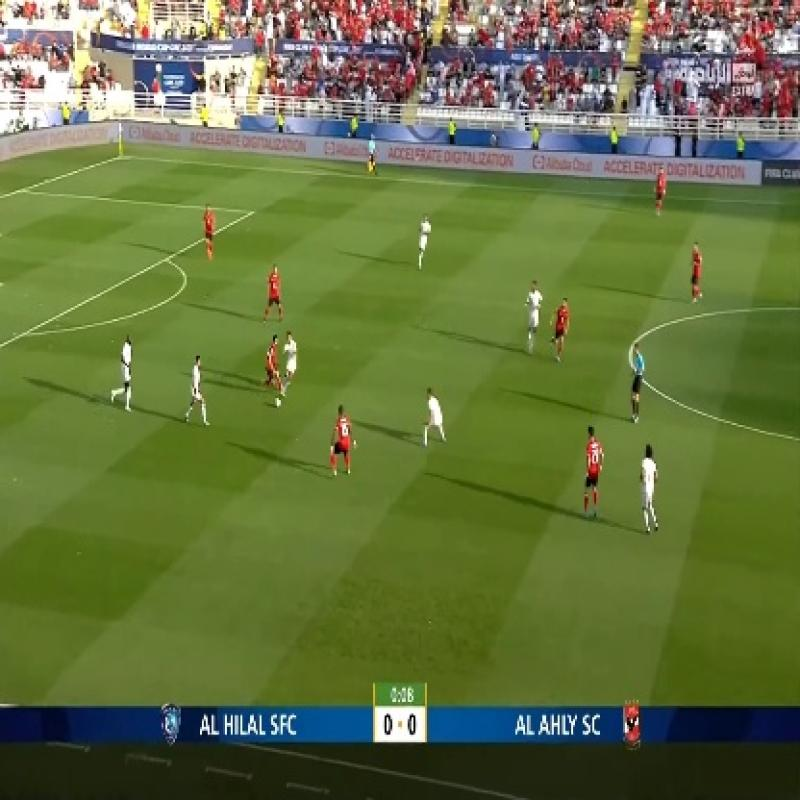1: (111, 148, 129, 164)
10: (156, 244, 175, 269)
11: (14, 320, 34, 342)
2: (12, 179, 30, 198)
9: (240, 200, 260, 221)
c: (618, 333, 646, 364)
